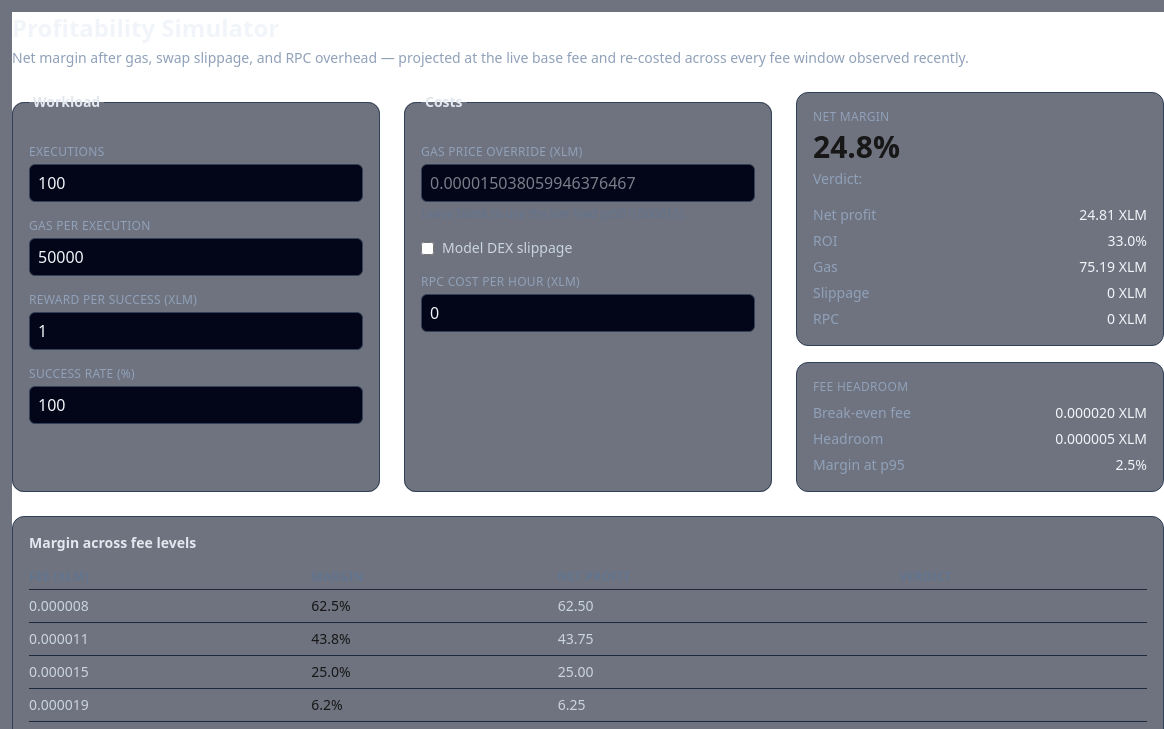
Scenario: ProfitabilityCalculator › adds slippage only when a pool is modelled
Click the checkbox labelled "Model DEX slippage" at coordinates (428, 248), box left=421, top=242, right=434, bottom=254
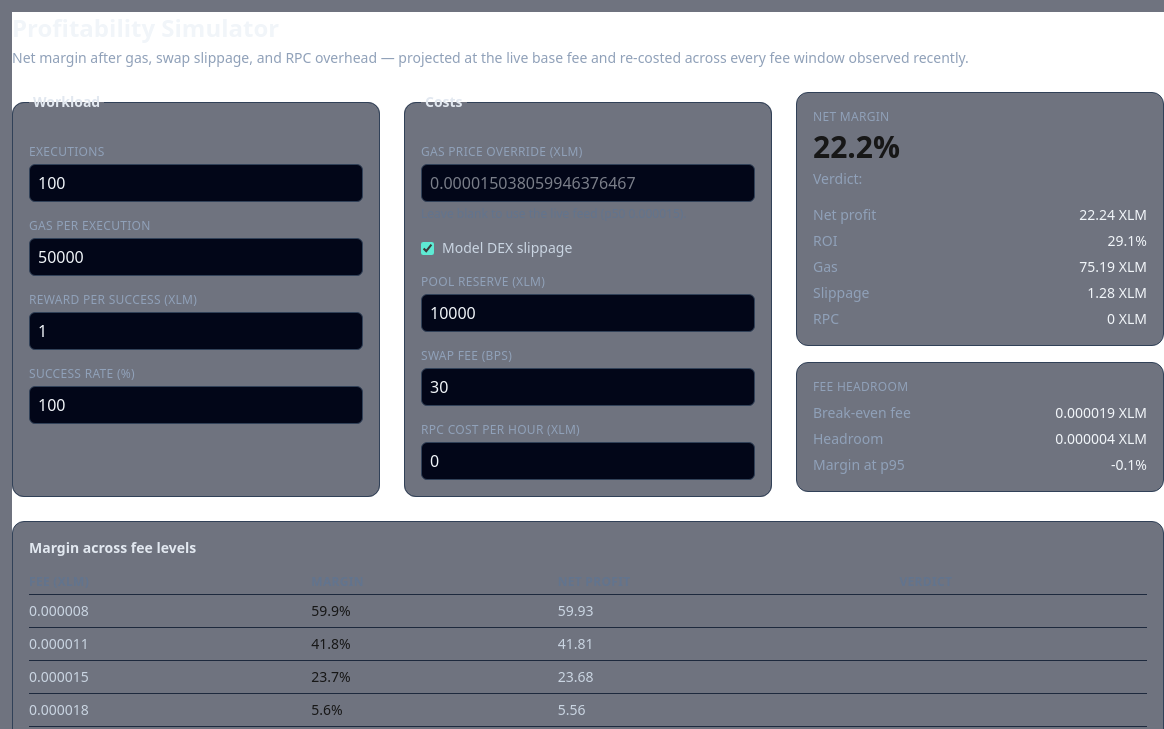
expect the number field labelled "Pool reserve (XLM)" is shown: met, box left=421, top=294, right=755, bottom=332
